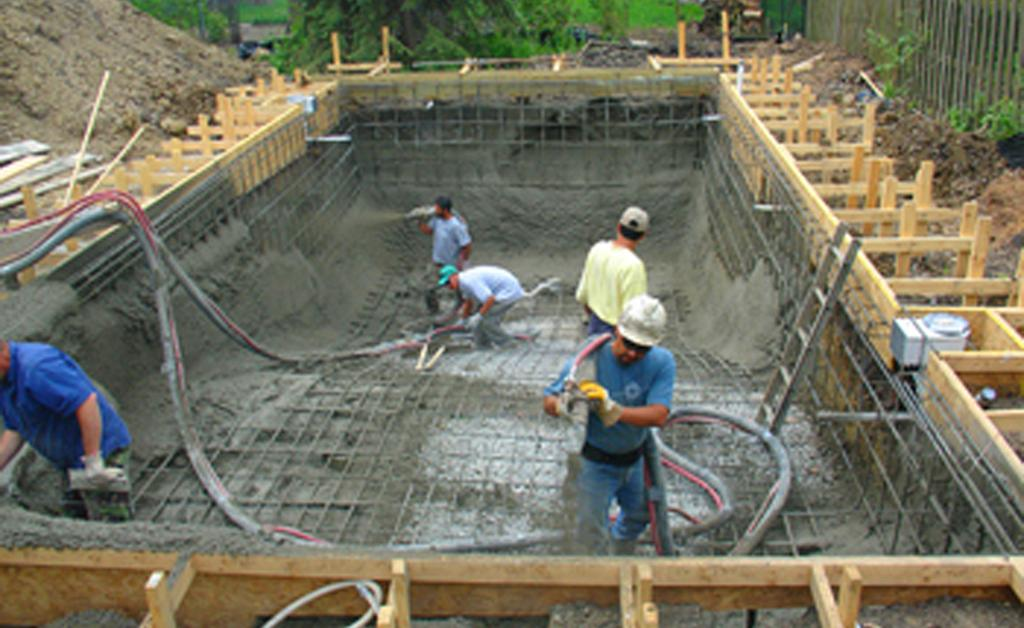face: (616, 330, 647, 364), (445, 276, 457, 289), (434, 202, 441, 217)
